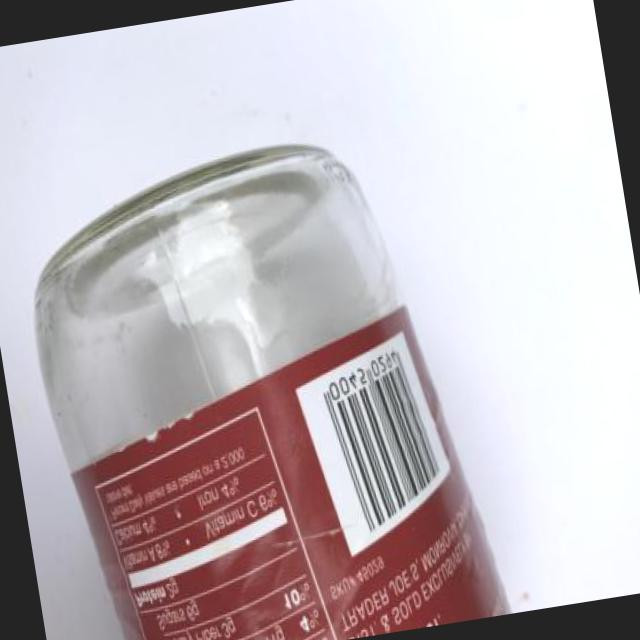chai_thuy_tinh: (33, 147, 397, 472)
